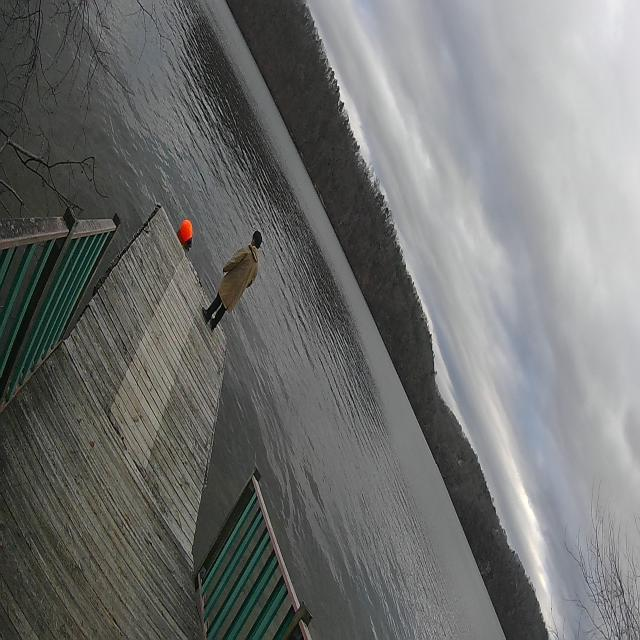Buoy: (178, 217, 196, 251)
